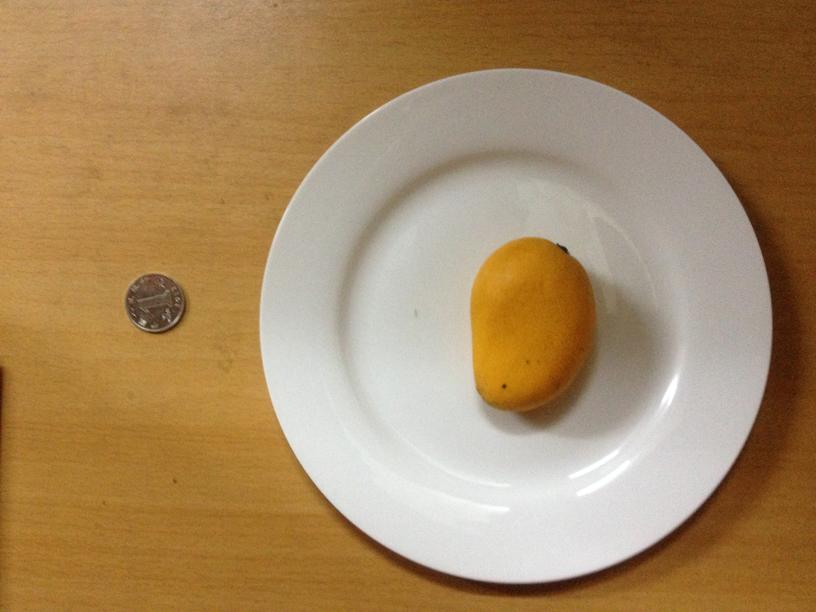coin: (124, 272, 187, 334)
mango: (464, 239, 599, 413)
